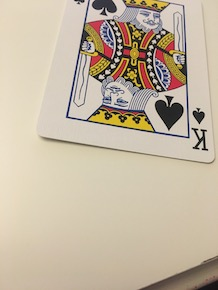KingOfSpades: (28, 1, 217, 165)
